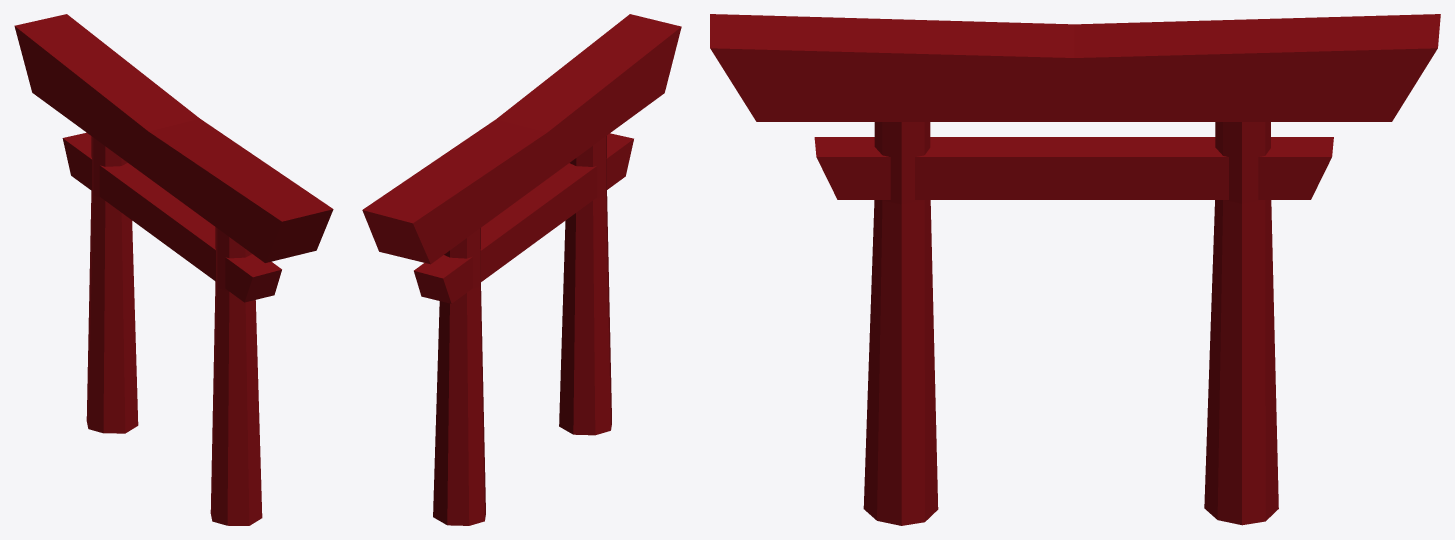
Rendered from checkpointGate.fbx.
The picture shows the model from 3 angles, left to right: view 1: azimuth 30°, elevation 25°; view 2: azimuth 150°, elevation 25°; view 3: azimuth 270°, elevation 25°; orthographic projection. The views are drawn at different scales.
Visible parts, largest first — view 1: Cube.001, Plane.003, Plane.002, Cube; view 2: Cube.001, Plane.003, Plane.002, Cube; view 3: Cube.001, Cube, Plane.002, Plane.003.
Boxes of the visible parts, bbox=[...] form: Cube.001: bbox=[14, 14, 333, 262]; Plane.003: bbox=[210, 227, 262, 525]; Plane.002: bbox=[86, 136, 138, 433]; Cube: bbox=[62, 132, 281, 302]; Cube.001: bbox=[362, 14, 681, 264]; Plane.003: bbox=[559, 135, 611, 435]; Plane.002: bbox=[433, 228, 485, 525]; Cube: bbox=[414, 133, 633, 303]; Cube.001: bbox=[710, 14, 1440, 121]; Cube: bbox=[814, 137, 1333, 199]; Plane.002: bbox=[1204, 122, 1278, 525]; Plane.003: bbox=[863, 122, 938, 525].
Bounding box in the file's own units: 120 × 782 × 1080.
